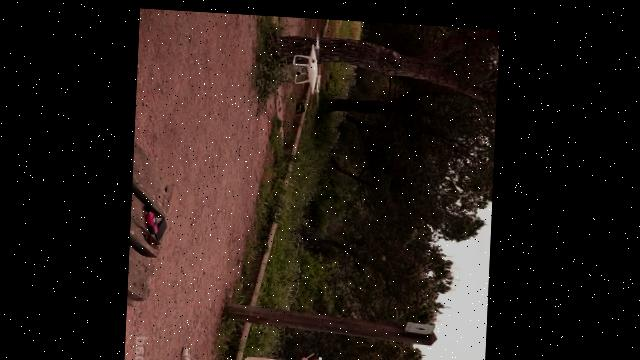drone: (292, 25, 325, 102)
